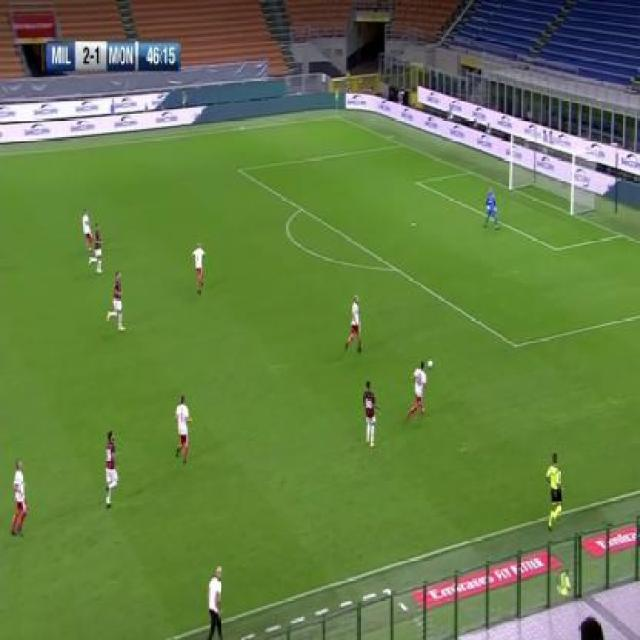ball: (428, 357, 434, 370)
player: (205, 564, 227, 640), (546, 450, 566, 532), (9, 458, 29, 540), (174, 393, 193, 467), (103, 427, 120, 509), (407, 359, 429, 422), (106, 270, 126, 333), (363, 380, 380, 451), (344, 293, 363, 356), (191, 238, 207, 295), (483, 185, 500, 231), (91, 222, 104, 275), (81, 206, 94, 257)
